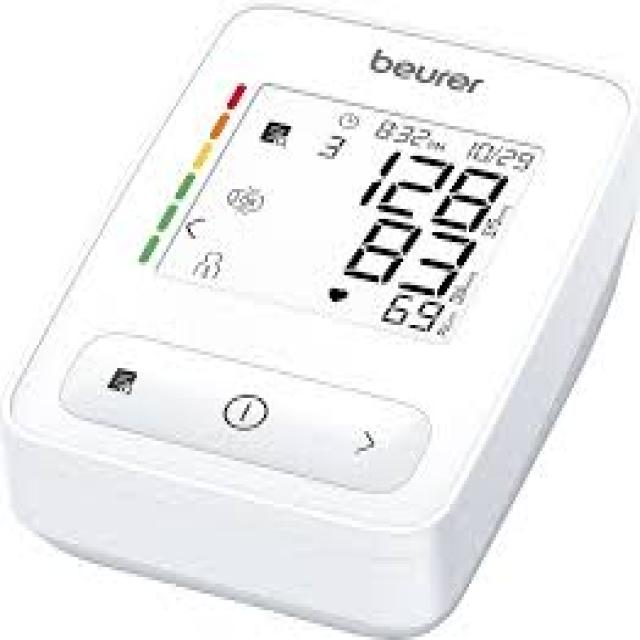dia: (334, 201, 488, 311)
pul: (375, 284, 449, 344)
ssd: (153, 69, 545, 365)
sys: (346, 131, 521, 243)
